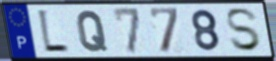7: (149, 6, 182, 55), (111, 6, 142, 56)
8: (190, 8, 223, 53)
L: (35, 7, 71, 55)
Q: (75, 9, 109, 53)
S: (224, 7, 264, 54)
